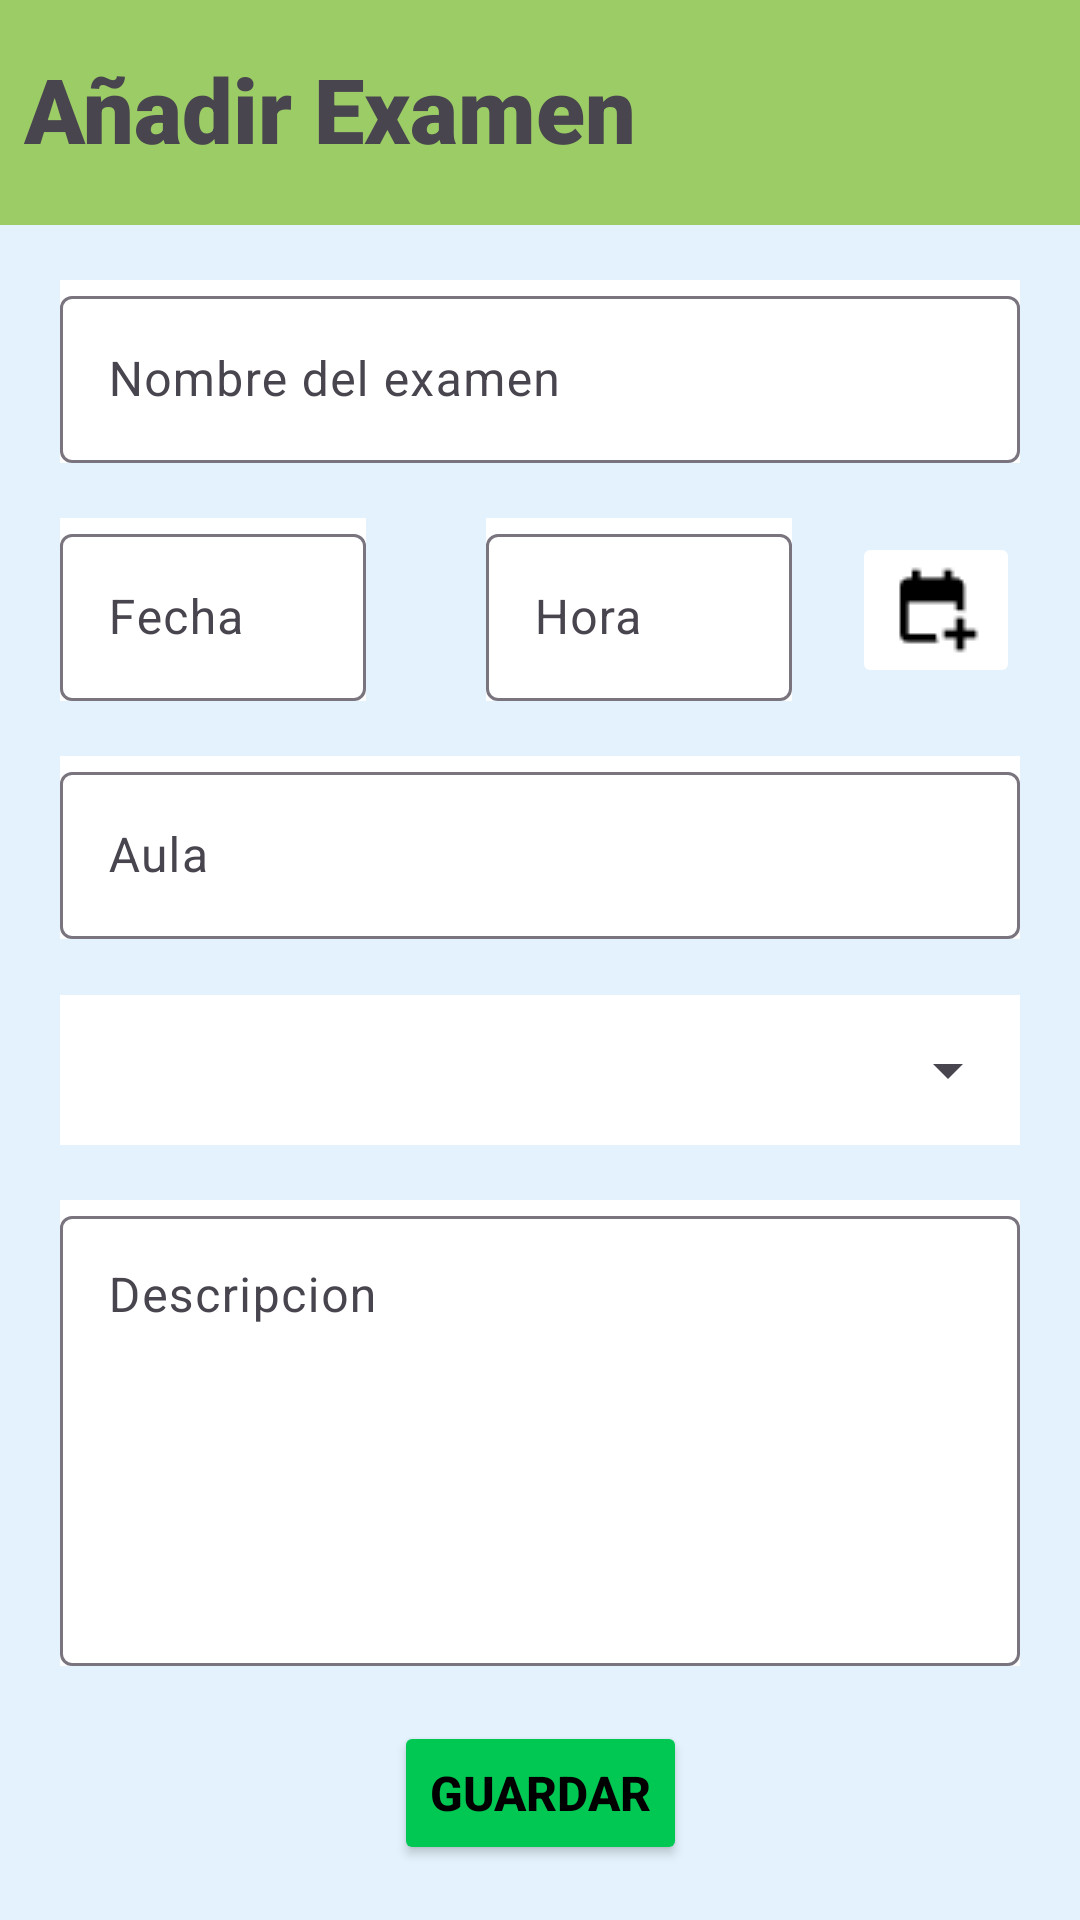

Icon bounding boxes for this 1080 x 1920 phone screenshot, format BBox(x1, y1, x2, y2):
calendar: BBox(864, 550, 1008, 670)
